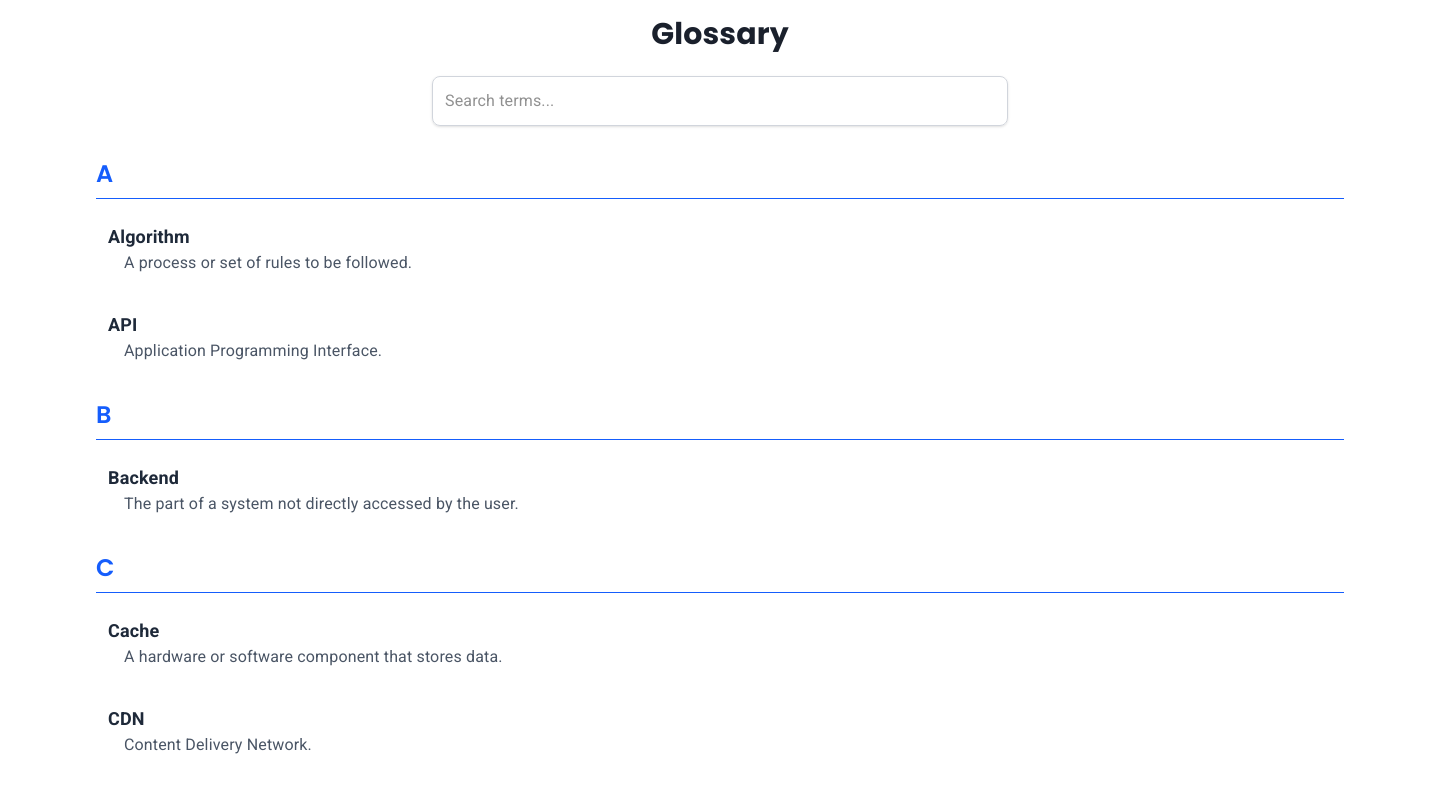
GlossaryPage › filters terms based on search input (definition content)
Step 1. Type "rules" into the field with placeholder "Search terms..." → x=720, y=101, box [432,76,1008,126]
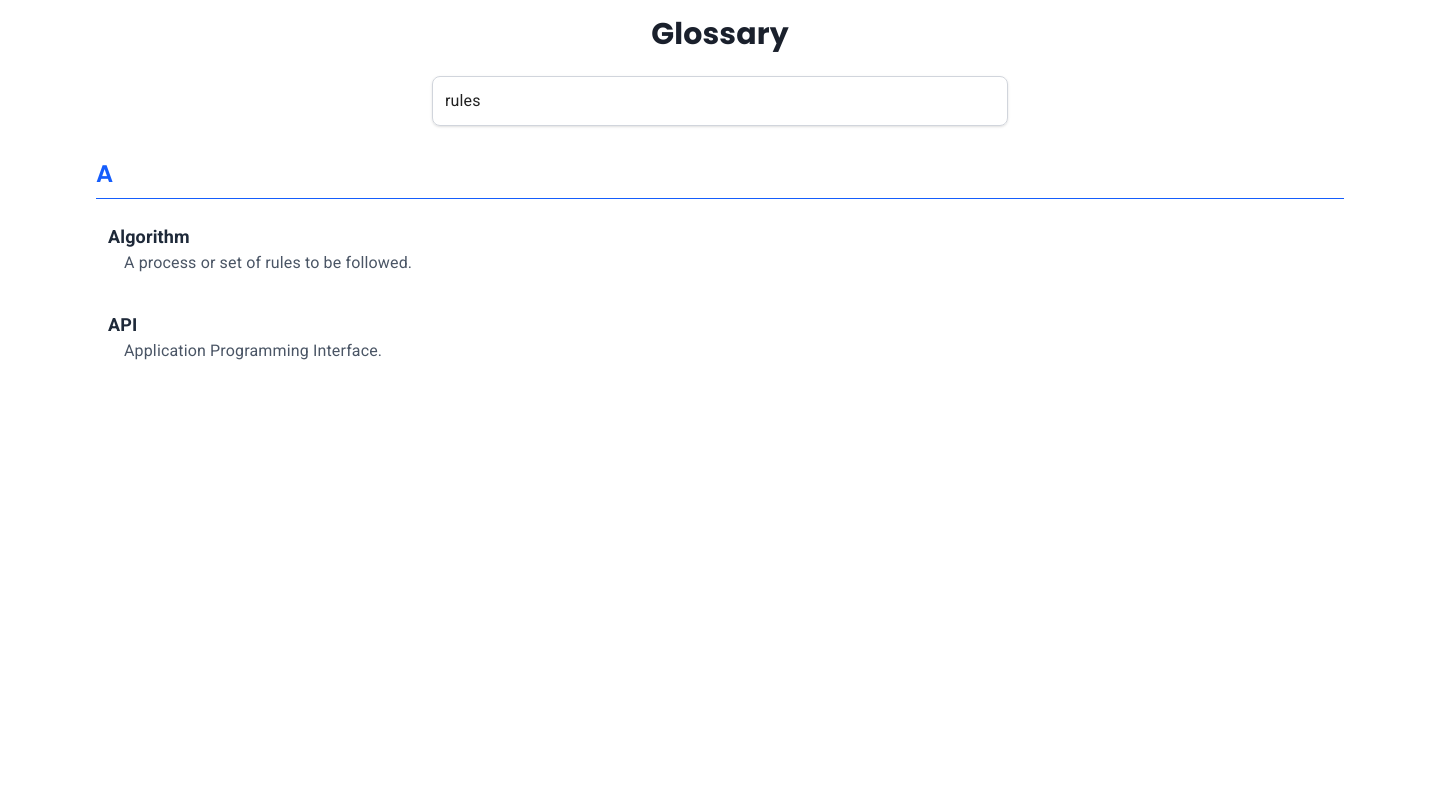
Check: the text "API" is shown, box [108,314,137,335]
Check: the text "Backend" is gone
